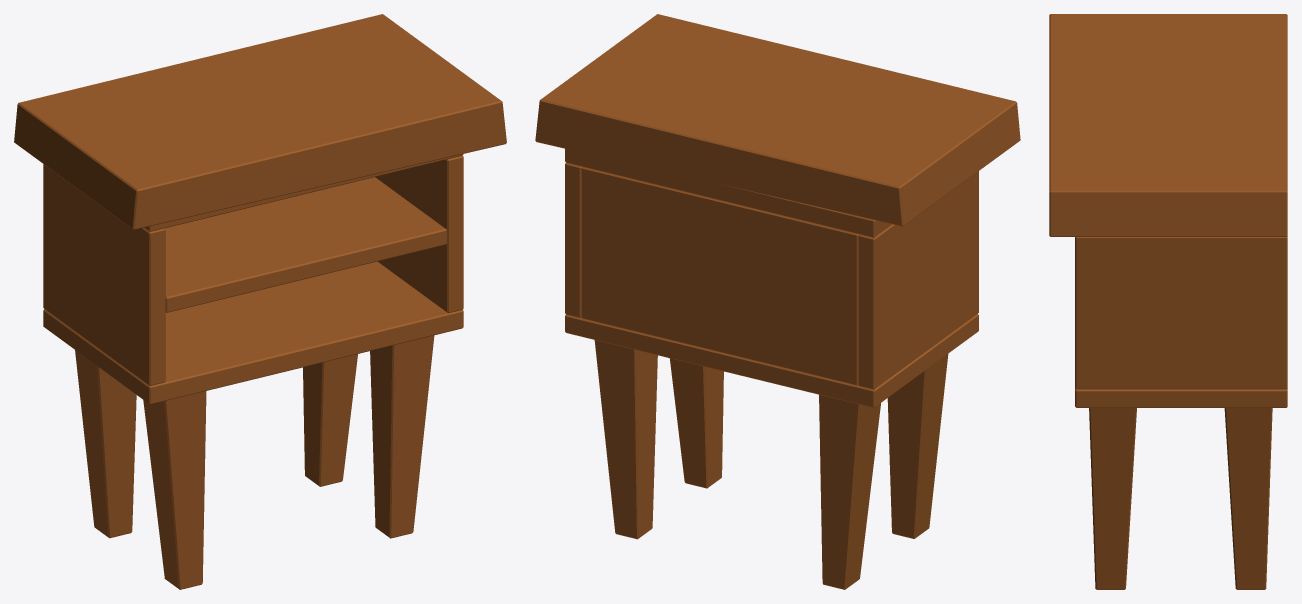
Rendered from Nightstand2.fbx.
The picture shows the model from 3 angles, left to right: view 1: azimuth 30°, elevation 25°; view 2: azimuth 150°, elevation 25°; view 3: azimuth 270°, elevation 25°; orthographic projection.
Visible parts, largest first — view 1: Nightstand2; view 2: Nightstand2; view 3: Nightstand2.
Boxes of the visible parts, x1,y1,x2,y2 form: Nightstand2: [14, 14, 506, 589]; Nightstand2: [535, 14, 1020, 589]; Nightstand2: [1049, 14, 1287, 589].
Bounding box in the file's own units: 0.8825 × 0.9766 × 0.4898.
